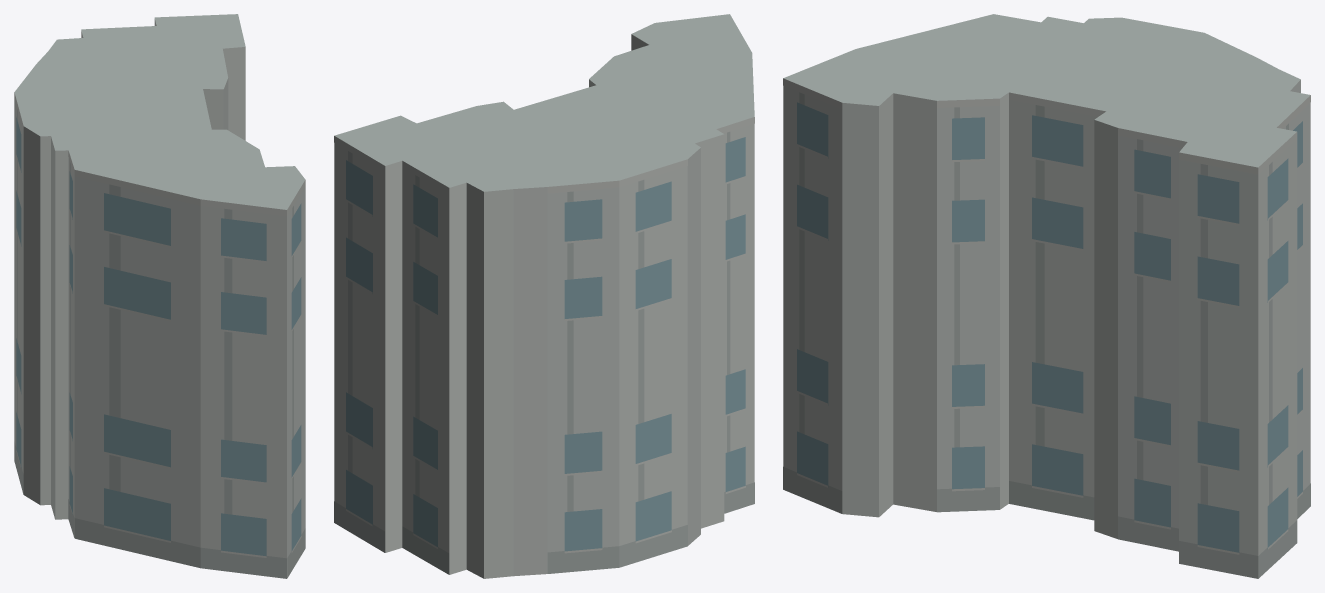
File: survey-upis-32492143.glb
3 views of the same model, side by side, from view 1: azimuth 30°, elevation 25°; view 2: azimuth 150°, elevation 25°; view 3: azimuth 270°, elevation 25° (orthographic). The views are drawn at different scales.
Visible parts, largest first — view 1: survey-upis-32492143.tmp; view 2: survey-upis-32492143.tmp; view 3: survey-upis-32492143.tmp.
Part boxes in pixels (x1,y1,x2,y2): survey-upis-32492143.tmp: [14, 14, 305, 578]; survey-upis-32492143.tmp: [334, 14, 754, 578]; survey-upis-32492143.tmp: [783, 14, 1310, 578].
Size of the model in its own units: 11.06 by 13.8 by 16.05.
